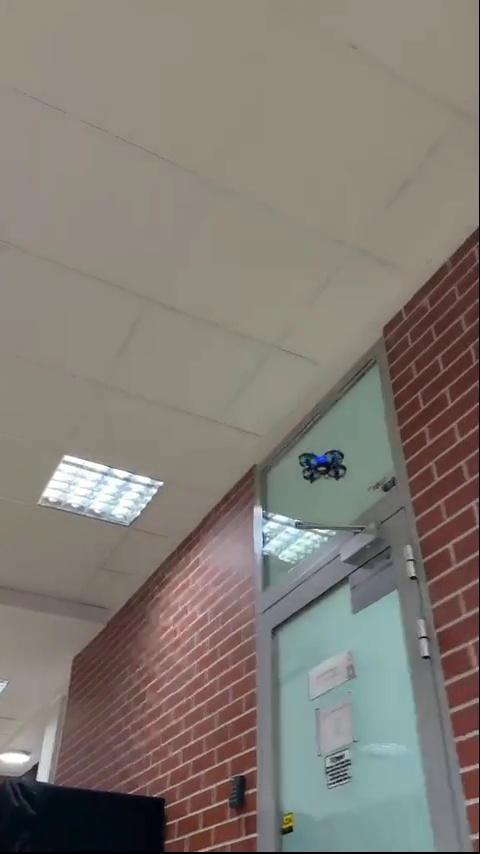drone: (297, 446, 349, 484)
